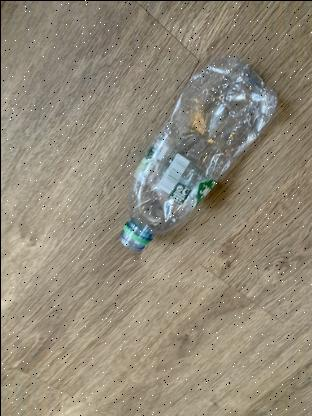Plastic Bottle: (112, 49, 282, 263)
